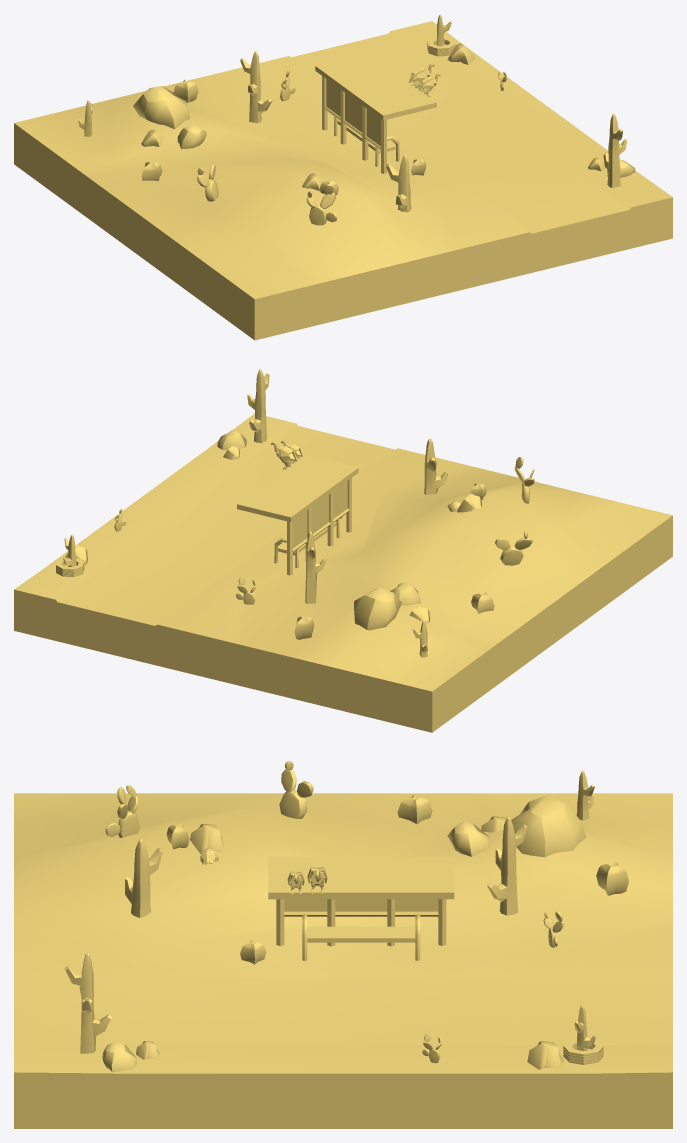
Rendered from Low_Poly_Desert.glb.
3 renders of one model, top to bottom at view 1: azimuth 30°, elevation 25°; view 2: azimuth 150°, elevation 25°; view 3: azimuth 270°, elevation 25°, orthographic. The views are drawn at different scales.
Visible parts, largest first — view 1: pCube1_desert_0, pCube1_road_0, polySurface18_lambert19_0, pCube53_lambert1_0, polySurface16_busstop1_0, polySurface12_lambert17_0, pCube46_lambert4_0, pCube25_lambert4_0, pCube47_lambert4_0, pCube11_cactis_0, pCube30_lambert1_0, polySurface20_lambert18_0 (+1 smaller); view 2: pCube1_desert_0, pCube1_road_0, polySurface18_lambert19_0, pCube53_lambert1_0, polySurface12_lambert17_0, polySurface16_busstop1_0, pCube46_lambert4_0, pCube25_lambert4_0, pCube47_lambert4_0, pCube27_cactis_0; view 3: pCube1_desert_0, pCube1_road_0, polySurface18_lambert19_0, pCube53_lambert1_0, polySurface20_lambert18_0, polySurface16_busstop1_0, pCube25_lambert4_0, polySurface12_lambert17_0, pCube46_lambert4_0, pCube47_lambert4_0, pCube27_cactis_0, pCube11_cactis_0 (+8 smaller).
Boxes of the visible parts, <box> form: pCube1_desert_0: <box>14,21,672,340</box>; pCube1_road_0: <box>291,33,628,233</box>; polySurface18_lambert19_0: <box>315,53,436,120</box>; pCube53_lambert1_0: <box>133,86,189,129</box>; polySurface16_busstop1_0: <box>322,76,386,173</box>; polySurface12_lambert17_0: <box>326,79,380,146</box>; pCube46_lambert4_0: <box>603,114,627,188</box>; pCube25_lambert4_0: <box>240,51,271,123</box>; pCube47_lambert4_0: <box>386,154,411,212</box>; pCube11_cactis_0: <box>306,184,337,225</box>; pCube30_lambert1_0: <box>177,125,206,149</box>; polySurface20_lambert18_0: <box>334,117,399,166</box>; pCube1_desert_0: <box>14,413,672,732</box>; pCube1_road_0: <box>58,426,394,625</box>; polySurface18_lambert19_0: <box>237,454,358,522</box>; pCube53_lambert1_0: <box>354,588,401,630</box>; polySurface12_lambert17_0: <box>293,481,347,548</box>; polySurface16_busstop1_0: <box>287,478,351,575</box>; pCube46_lambert4_0: <box>247,369,269,443</box>; pCube25_lambert4_0: <box>305,531,325,603</box>; pCube47_lambert4_0: <box>424,438,448,494</box>; pCube27_cactis_0: <box>495,531,532,565</box>; pCube1_desert_0: <box>14,793,672,1128</box>; pCube1_road_0: <box>14,976,672,1045</box>; polySurface18_lambert19_0: <box>268,856,454,899</box>; pCube53_lambert1_0: <box>511,795,586,857</box>; polySurface20_lambert18_0: <box>302,914,420,960</box>; polySurface16_busstop1_0: <box>276,899,446,946</box>; pCube25_lambert4_0: <box>487,816,526,915</box>; polySurface12_lambert17_0: <box>284,899,438,911</box>; pCube46_lambert4_0: <box>64,952,111,1053</box>; pCube47_lambert4_0: <box>125,838,162,917</box>; pCube27_cactis_0: <box>279,761,313,818</box>; pCube11_cactis_0: <box>105,785,140,837</box>.
Size of the model in its own units: 21 by 6.02 by 20.94.
